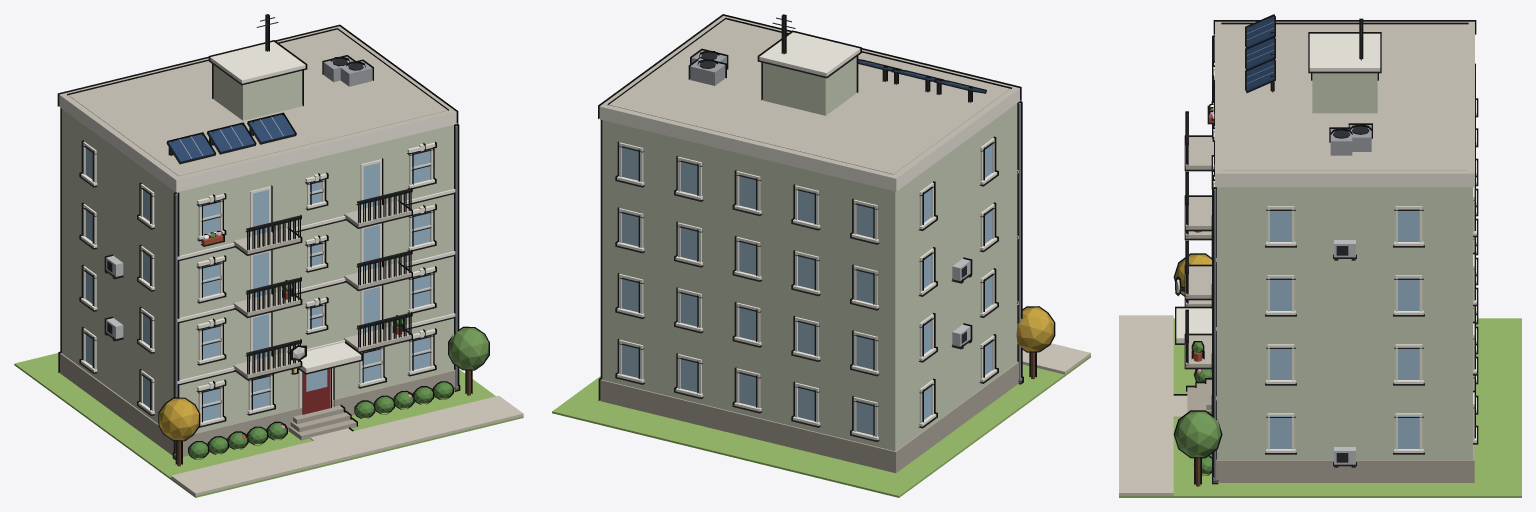
The model's file is Apartman_2_1.fbx.
3 views of the same model, side by side, from view 1: azimuth 30°, elevation 25°; view 2: azimuth 150°, elevation 25°; view 3: azimuth 270°, elevation 25° (orthographic). The views are drawn at different scales.
Parts seen in each view (by area): view 1: Apartman_2_1; view 2: Apartman_2_1; view 3: Apartman_2_1.
Part boxes in pixels (left/top/right/bottom): Apartman_2_1: left=14, top=14, right=523, bottom=497; Apartman_2_1: left=552, top=14, right=1090, bottom=497; Apartman_2_1: left=1119, top=14, right=1521, bottom=497.
Size of the model in its own units: 15.46 by 16.18 by 14.8.
